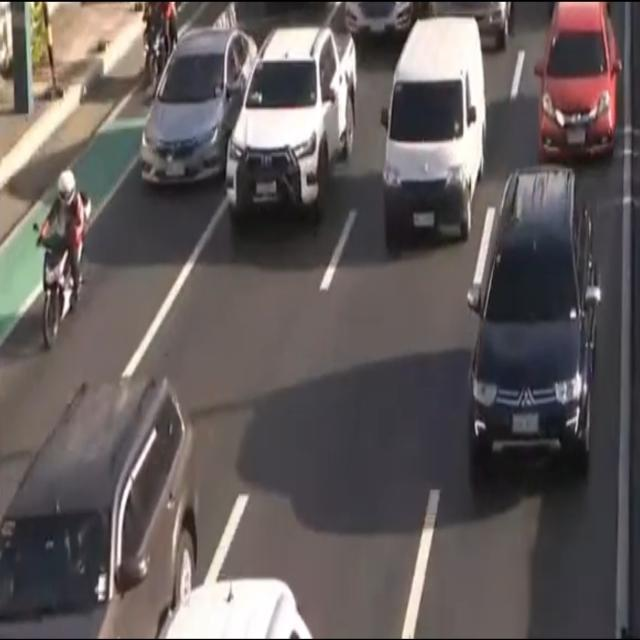Motorcycle: (33, 172, 95, 350), (140, 0, 176, 87)
SUV: (0, 370, 196, 640), (469, 173, 597, 483), (228, 28, 359, 210)
Sedan: (141, 30, 260, 188), (537, 0, 619, 164)
Van: (382, 18, 486, 237)
